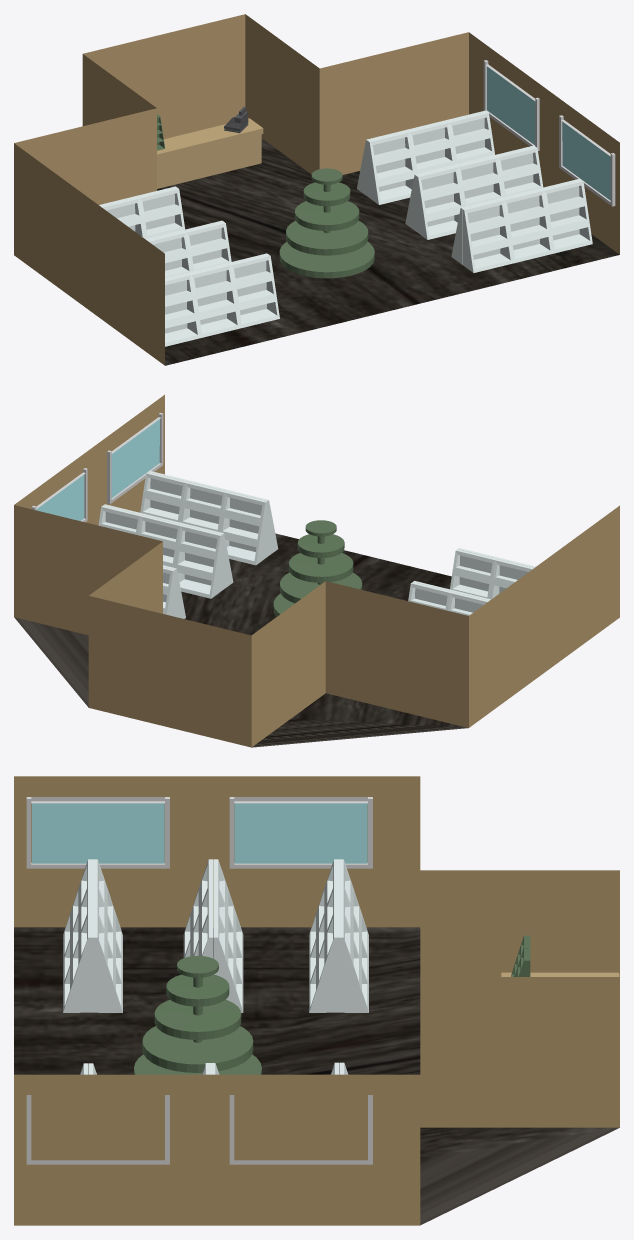
Rendered from DepartmentGBFILE.glb.
The picture shows the model from 3 angles, top to bottom: view 1: azimuth 30°, elevation 25°; view 2: azimuth 150°, elevation 25°; view 3: azimuth 270°, elevation 25°; orthographic projection. The views are drawn at different scales.
Parts seen in each view (by area): view 1: Room, Shelves, Room.001, Shelves.001, Counter, Plane, Window Frame; view 2: Room, Shelves, Room.001, Shelves.001, Plane, Window Frame; view 3: Room, Room.001, Shelves, Plane, Shelves.001, Window Frame.
Part boxes in pixels (x1,y1,x2,y2): Room: [14, 14, 619, 365]; Shelves: [99, 110, 592, 346]; Room.001: [157, 138, 619, 365]; Shelves.001: [279, 168, 374, 278]; Counter: [157, 118, 263, 188]; Plane: [487, 66, 610, 200]; Window Frame: [483, 60, 615, 206]; Room: [14, 394, 619, 747]; Shelves: [98, 471, 535, 618]; Room.001: [14, 533, 467, 747]; Shelves.001: [273, 520, 362, 616]; Plane: [36, 419, 159, 520]; Window Frame: [31, 413, 163, 522]; Room: [14, 776, 619, 1225]; Room.001: [14, 927, 619, 1225]; Shelves: [63, 859, 368, 1074]; Plane: [32, 803, 367, 863]; Shelves.001: [134, 955, 261, 1074]; Window Frame: [26, 797, 372, 1164].
Bounding box in the file's own units: 85.32 × 20.09 × 73.22.
Materials: 7 (7 with a texture image).
